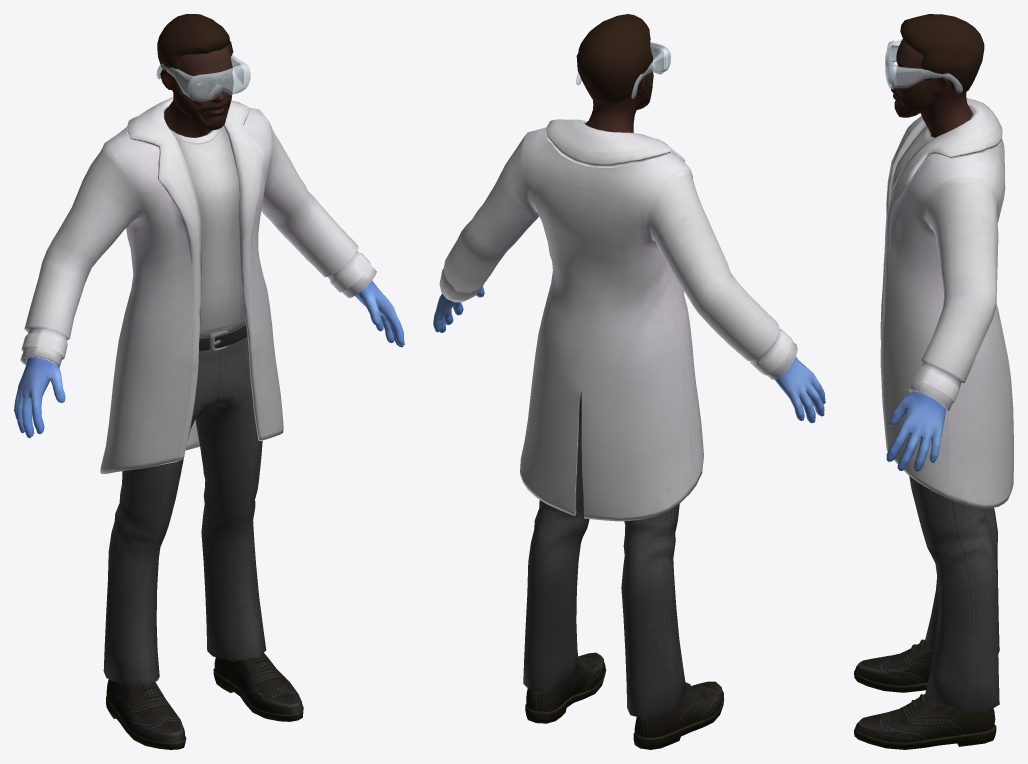
Rendered from BLENDER.gltf.
3 renders of one model, left to right at view 1: azimuth 30°, elevation 25°; view 2: azimuth 150°, elevation 25°; view 3: azimuth 270°, elevation 25°, orthographic.
Parts seen in each view (by area): view 1: Wolf3D_Outfit_Top, Wolf3D_Outfit_Bottom, Wolf3D_Outfit_Footwear, Wolf3D_Head, Wolf3D_Hair, Wolf3D_Glasses, Wolf3D_Beard; view 2: Wolf3D_Outfit_Top, Wolf3D_Outfit_Bottom, Wolf3D_Outfit_Footwear, Wolf3D_Hair, Wolf3D_Head, Wolf3D_Glasses; view 3: Wolf3D_Outfit_Top, Wolf3D_Outfit_Bottom, Wolf3D_Outfit_Footwear, Wolf3D_Hair, Wolf3D_Head, Wolf3D_Glasses, Wolf3D_Beard.
Boxes of the visible parts, x1,y1,x2,y2 form: Wolf3D_Outfit_Top: [14, 97, 404, 473]; Wolf3D_Outfit_Bottom: [103, 319, 266, 685]; Wolf3D_Outfit_Footwear: [106, 652, 303, 749]; Wolf3D_Head: [160, 45, 233, 137]; Wolf3D_Hair: [157, 14, 233, 79]; Wolf3D_Glasses: [156, 55, 250, 101]; Wolf3D_Beard: [172, 76, 232, 130]; Wolf3D_Outfit_Top: [433, 119, 825, 521]; Wolf3D_Outfit_Bottom: [523, 392, 686, 719]; Wolf3D_Outfit_Footwear: [525, 652, 724, 749]; Wolf3D_Hair: [576, 14, 653, 104]; Wolf3D_Head: [585, 51, 653, 132]; Wolf3D_Glasses: [576, 42, 670, 98]; Wolf3D_Outfit_Top: [880, 98, 1013, 508]; Wolf3D_Outfit_Bottom: [909, 476, 999, 711]; Wolf3D_Outfit_Footwear: [854, 639, 996, 749]; Wolf3D_Hair: [900, 14, 984, 93]; Wolf3D_Head: [892, 39, 972, 137]; Wolf3D_Glasses: [885, 40, 962, 92]; Wolf3D_Beard: [891, 78, 933, 117].
Bounding box in the file's own units: 1.06 × 1.86 × 0.3868.
Materials: 9 (9 with a texture image).
